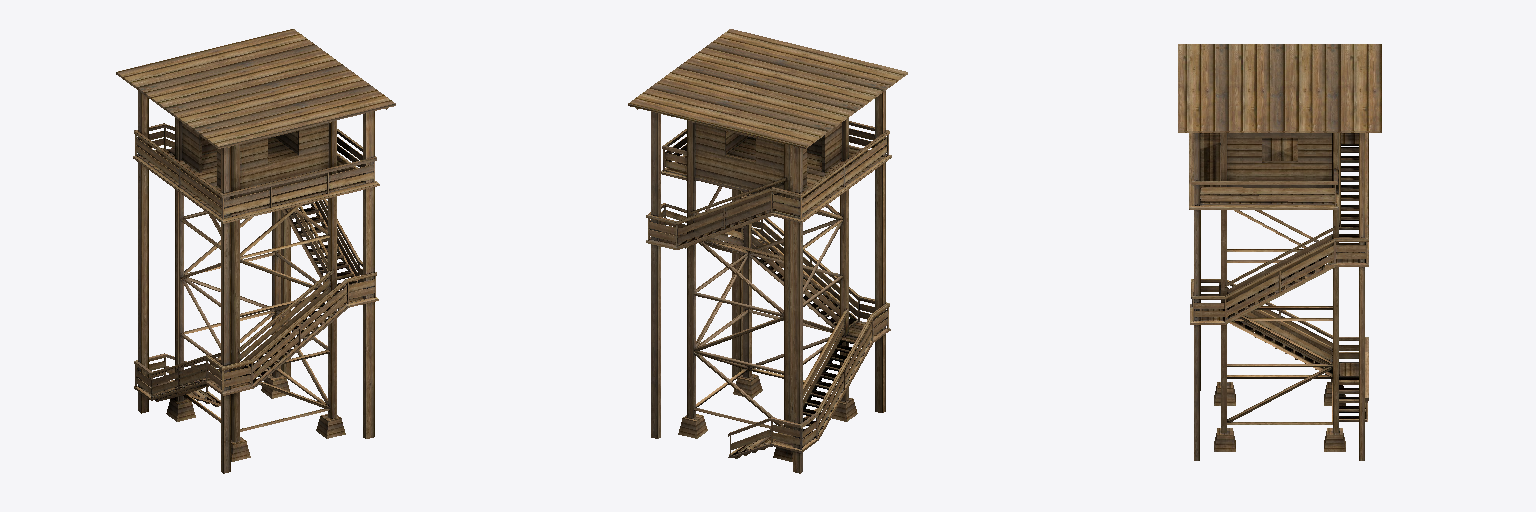
3 views of the same model, side by side, from view 1: azimuth 30°, elevation 25°; view 2: azimuth 150°, elevation 25°; view 3: azimuth 270°, elevation 25° (orthographic).
Visible parts, largest first — view 1: fishCube; view 2: fishCube; view 3: fishCube.
Boxes of the visible parts, x1=… form: fishCube: x1=116, y1=29, x2=395, y2=473; fishCube: x1=628, y1=29, x2=907, y2=473; fishCube: x1=1178, y1=44, x2=1381, y2=460.
Size of the model in its own units: 4.22 by 7.65 by 4.22.
Materials: 1 (1 with a texture image).